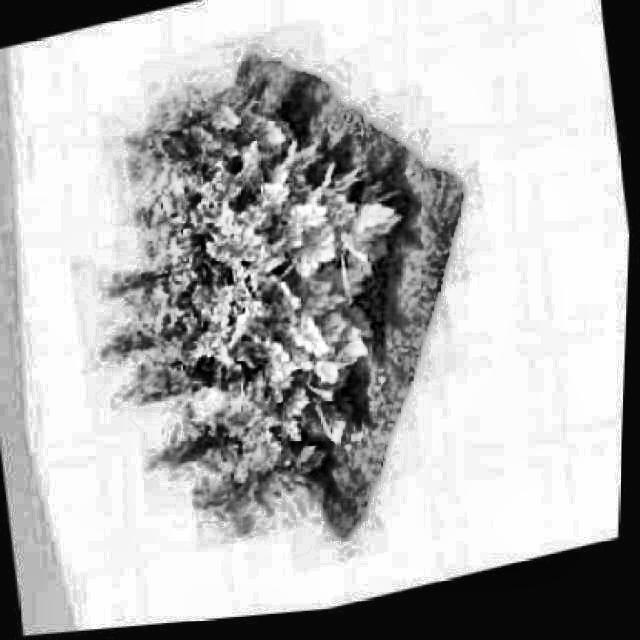plants: (39, 13, 466, 581)
